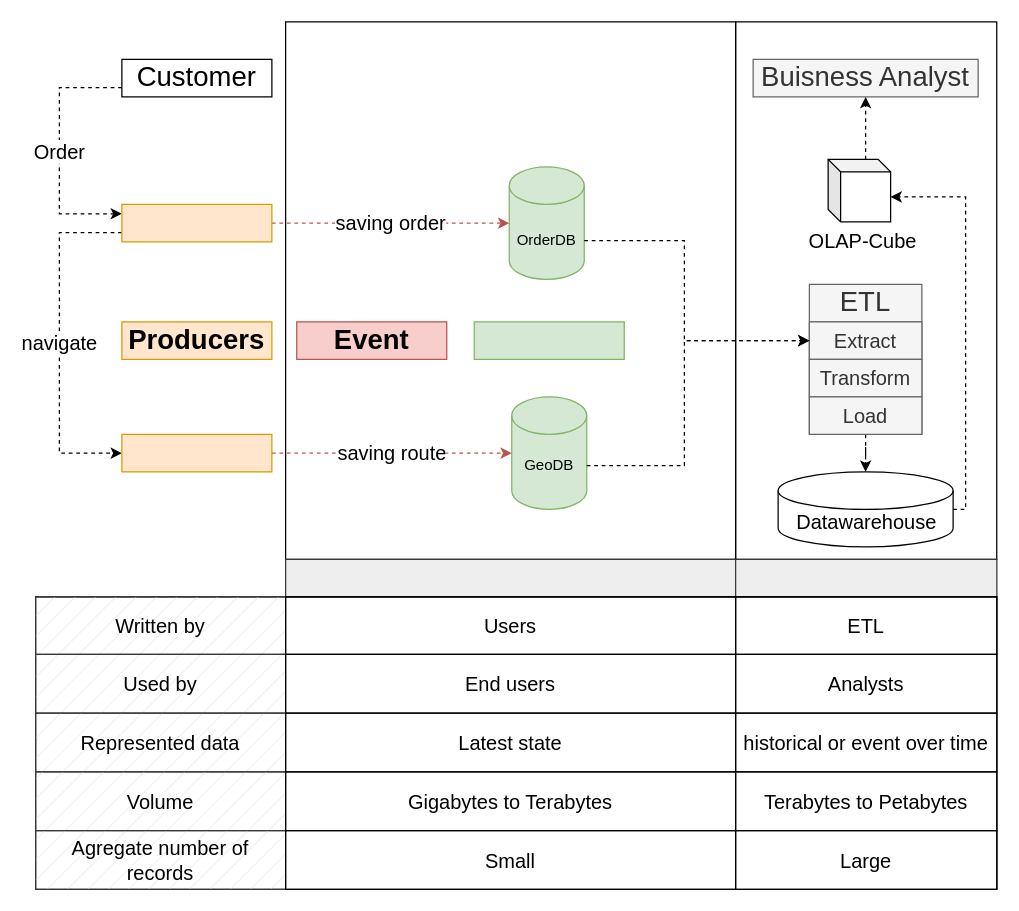
The diagram is 1019 pixels wide and 911 high, and some of its shapes have lost their labels. Each missing label, with the centre of its shape:
"Consumer" goes at pixel 548 340.
"Navigator" goes at pixel 196 452.
"OLAP (analytical)" goes at pixel 865 577.
"OLTP (transactional)" goes at pixel 510 577.
"Taxi driver" goes at pixel 196 222.
